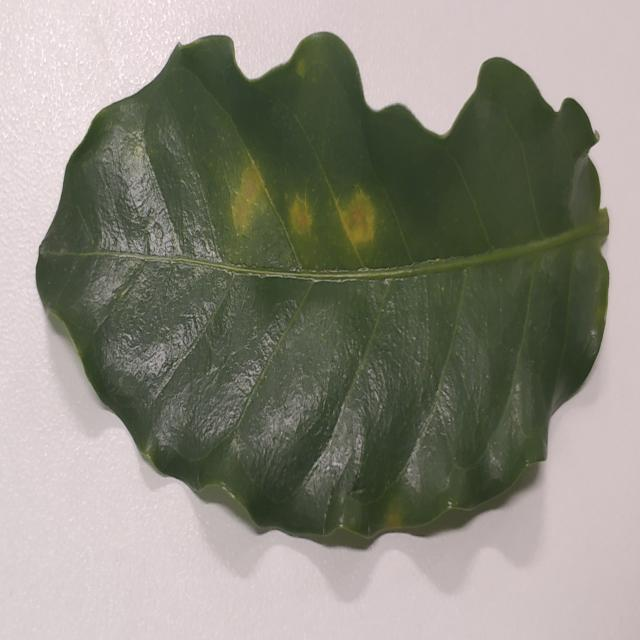Enfermedad-Roya: (35, 32, 612, 552)
